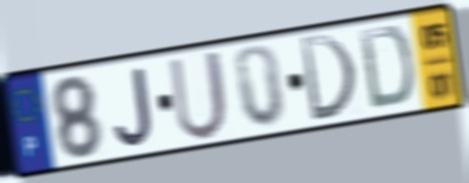0: (234, 43, 287, 133)
8: (50, 72, 107, 162)
D: (297, 32, 360, 124), (356, 23, 415, 113)
J: (111, 63, 156, 150)
U: (166, 47, 230, 143)
